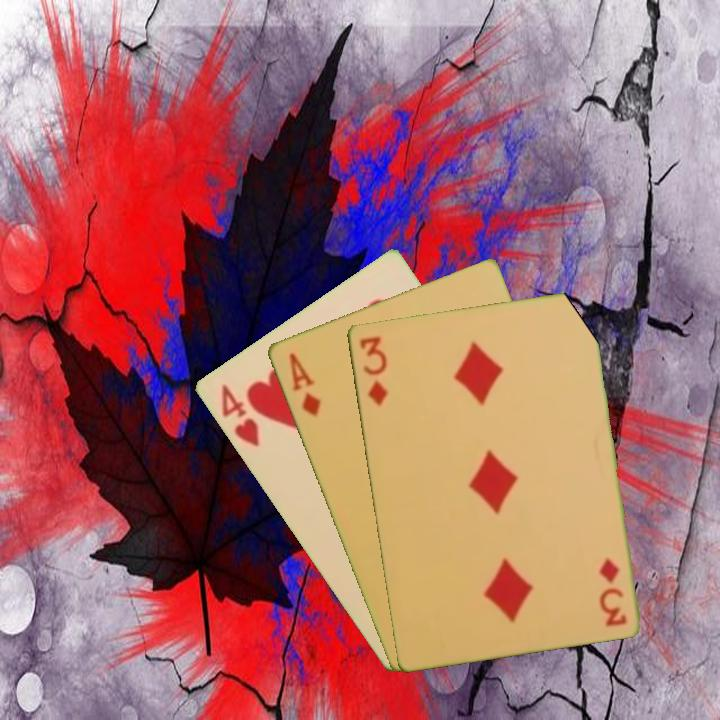3d: (355, 332, 391, 409), (595, 553, 629, 629)
4h: (217, 380, 262, 450)
Ad: (285, 349, 323, 420)
